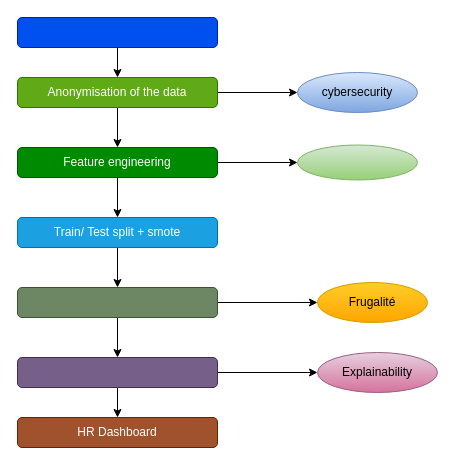
Some shapes in this 455 by 465 pixel diagram are drawn without their labels. Each missing label, with the centre of its shape:
"dataset : HRDataset_v14.csv" goes at point 117,32.
"Ethics" goes at point 357,162.
"GradientBoostingClassifier" goes at point 117,302.
"SHAP explainability" goes at point 117,372.
